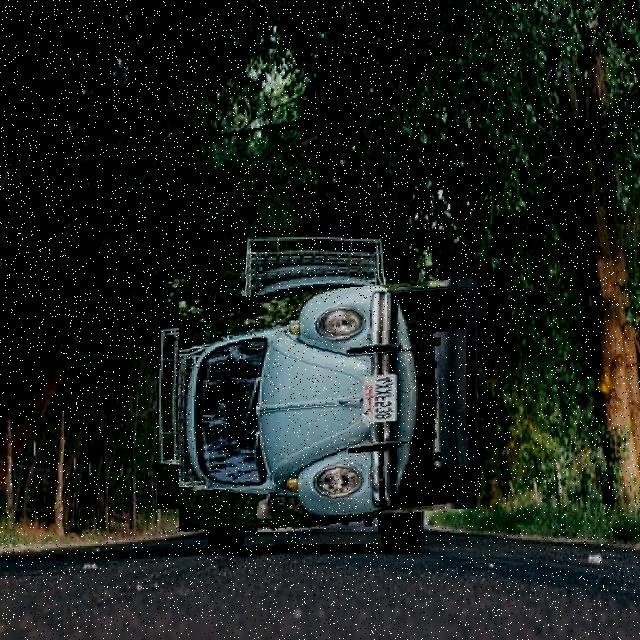car: (180, 258, 456, 533)
